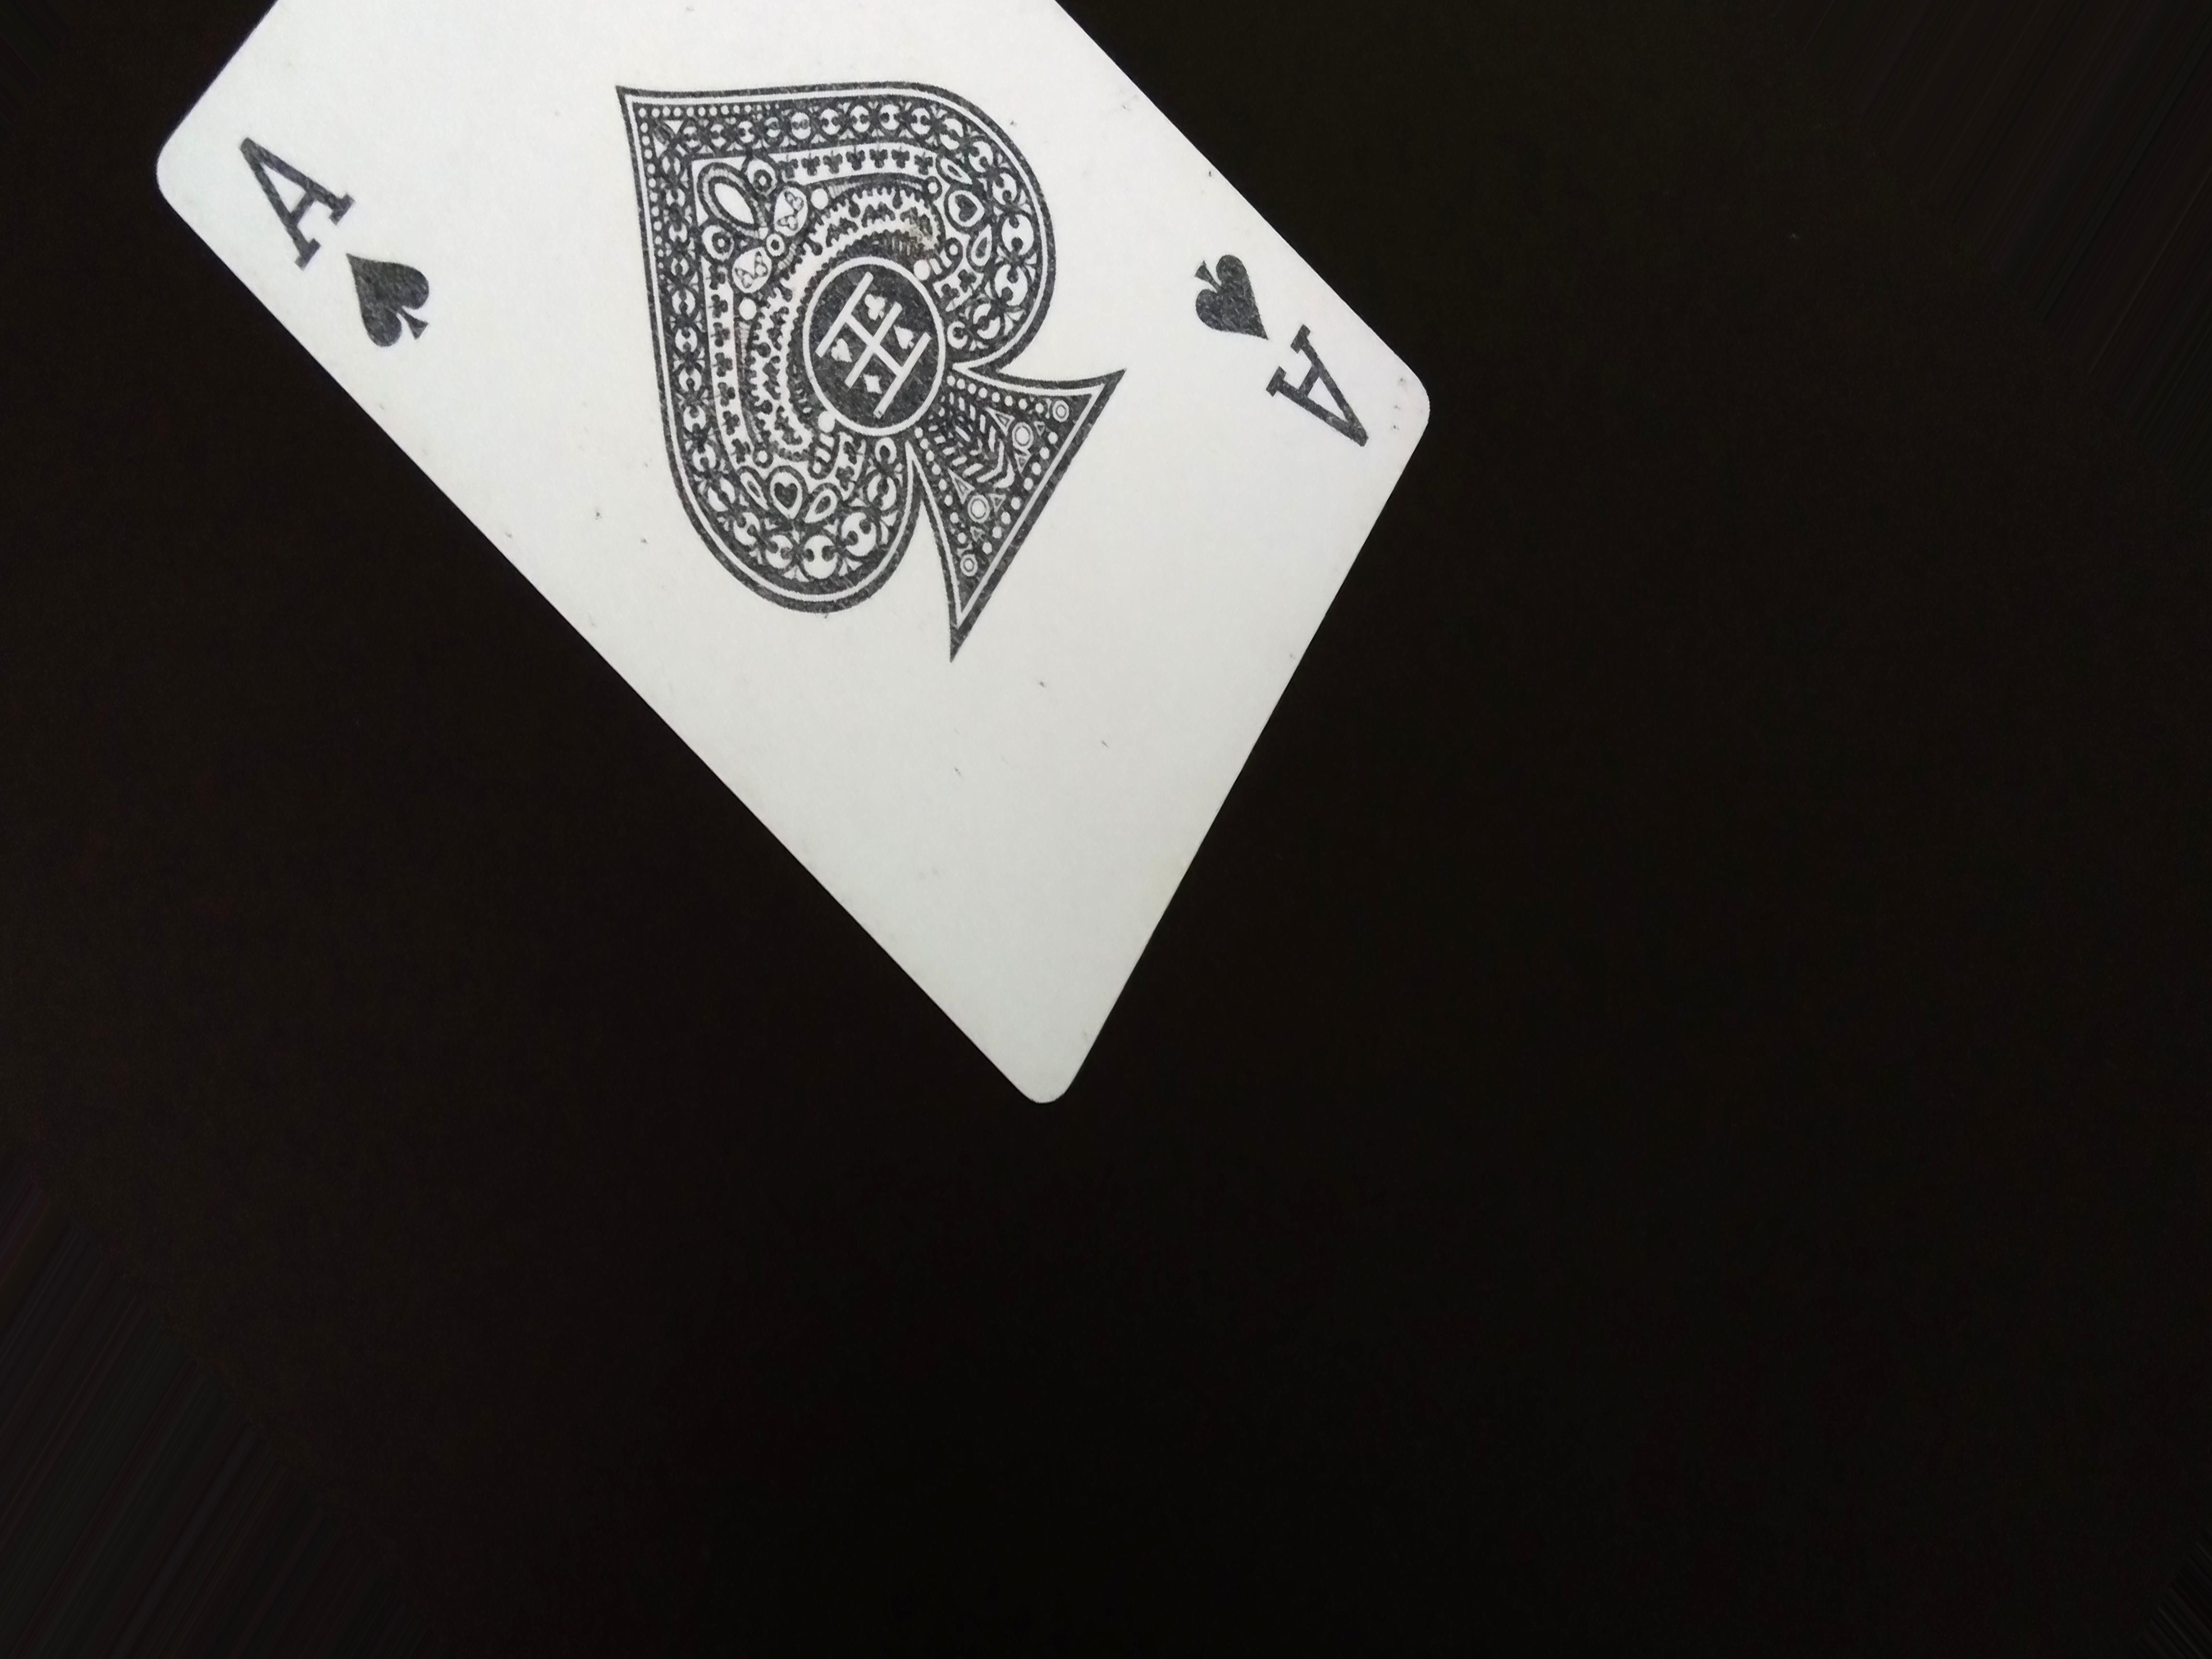AS: (223, 127, 467, 380)
